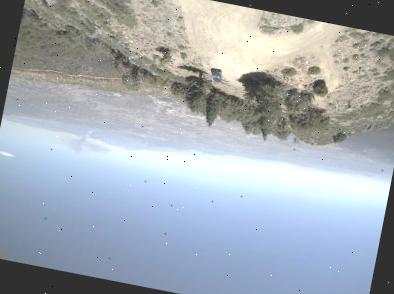smoke: (56, 123, 118, 163)
